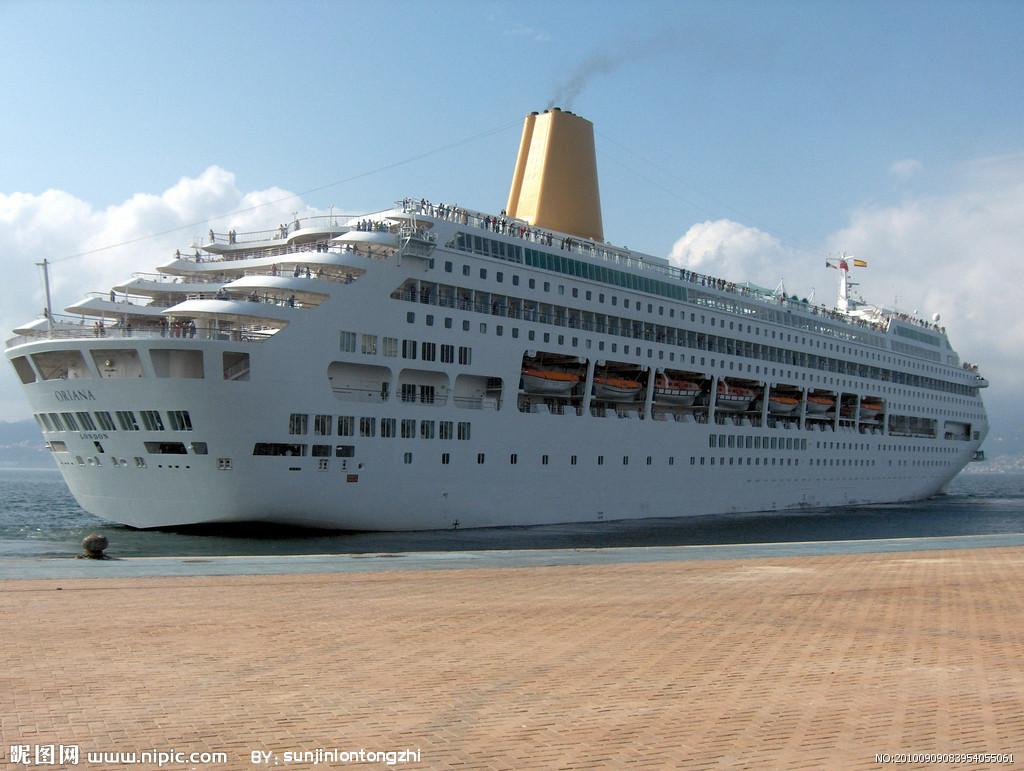youlun: (14, 109, 1009, 532)
